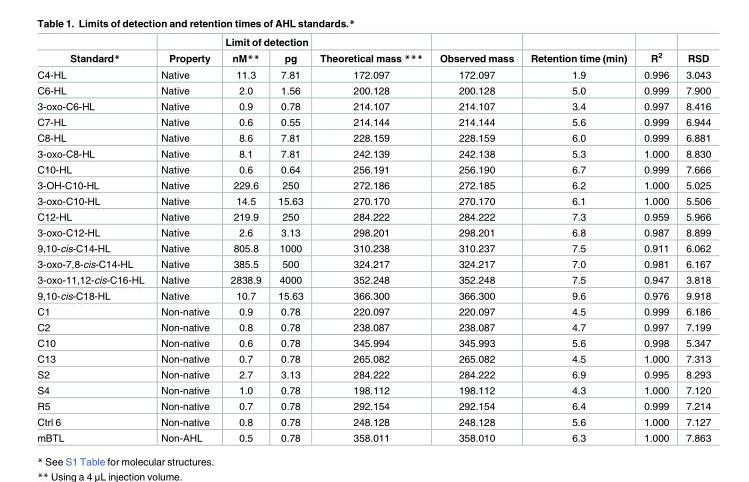table: (36, 37, 710, 442)
table column: (313, 37, 430, 442), (36, 37, 151, 442), (521, 37, 634, 442), (430, 37, 521, 442), (151, 37, 217, 442), (217, 37, 268, 442), (268, 37, 313, 442), (634, 37, 676, 442), (676, 37, 710, 442)
table column header: (36, 37, 710, 66)
table row: (36, 49, 710, 66), (36, 66, 710, 82), (36, 82, 710, 98), (36, 98, 710, 114), (36, 114, 710, 130), (36, 145, 710, 161), (36, 161, 710, 177), (36, 177, 710, 193), (36, 193, 710, 209), (36, 224, 710, 240), (36, 240, 710, 256), (36, 256, 710, 272), (36, 287, 710, 303), (36, 303, 710, 319), (36, 319, 710, 335), (36, 335, 710, 351), (36, 366, 710, 382), (36, 382, 710, 398), (36, 398, 710, 414), (36, 414, 710, 430), (36, 130, 710, 145), (36, 209, 710, 224), (36, 272, 710, 287), (36, 351, 710, 366), (36, 37, 710, 49), (36, 430, 710, 442)
table spanning cell: (313, 37, 430, 66), (36, 37, 151, 66), (521, 37, 634, 66), (430, 37, 521, 66), (151, 37, 217, 66), (634, 37, 676, 66), (217, 37, 313, 49), (676, 37, 710, 66)
